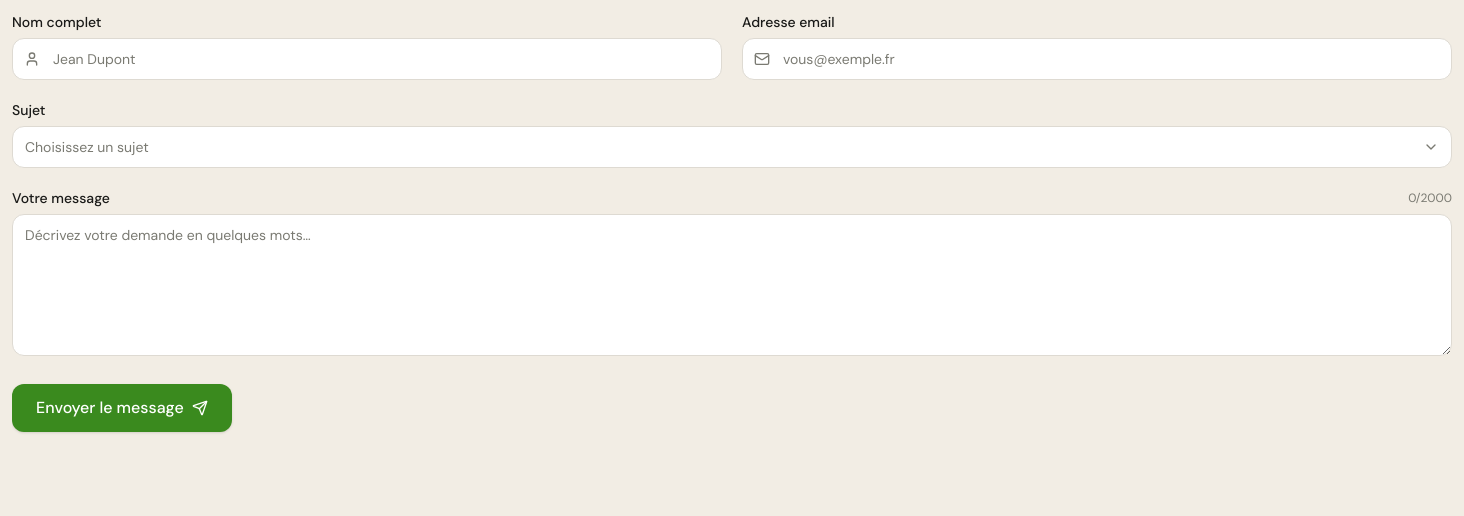
Test: ContactForm — validation › affiche les erreurs si le formulaire est soumis vide
Click the button "Envoyer le message" at (122, 408), box left=12, top=384, right=232, bottom=432
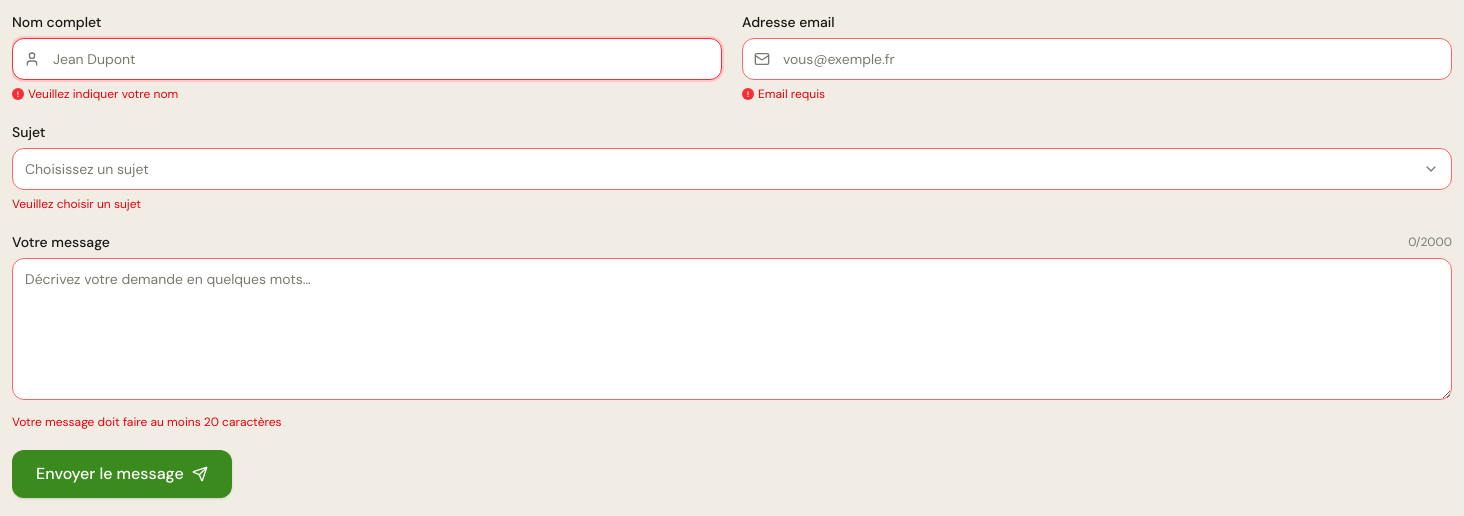
expect the text "Veuillez indiquer votre nom" is shown: met, box left=28, top=86, right=178, bottom=102
expect the text "Email requis" is shown: met, box left=758, top=86, right=825, bottom=102
expect the text "Veuillez choisir un sujet" is shown: met, box left=12, top=196, right=141, bottom=212
